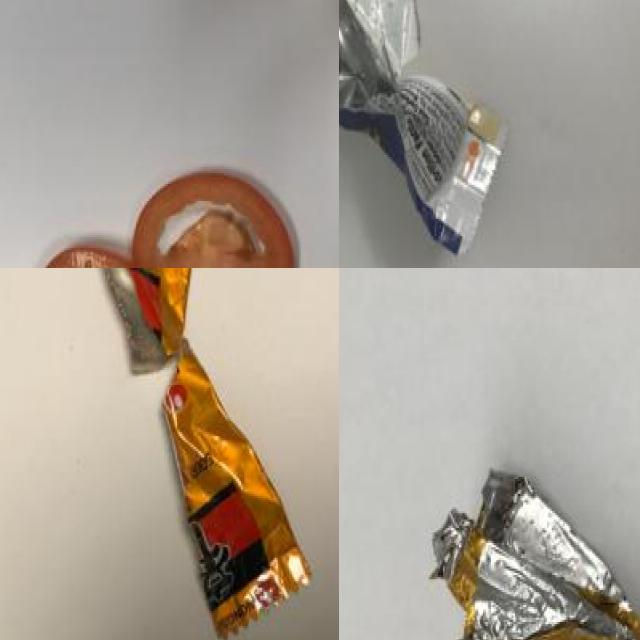compost: (7, 147, 336, 268)
trash: (45, 268, 339, 640), (339, 0, 536, 268), (419, 430, 640, 640)
